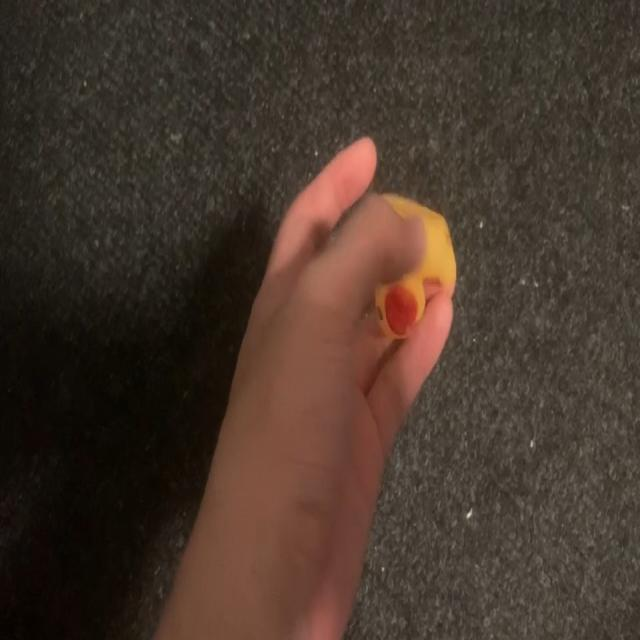rubber-duck: (374, 193, 454, 337)
